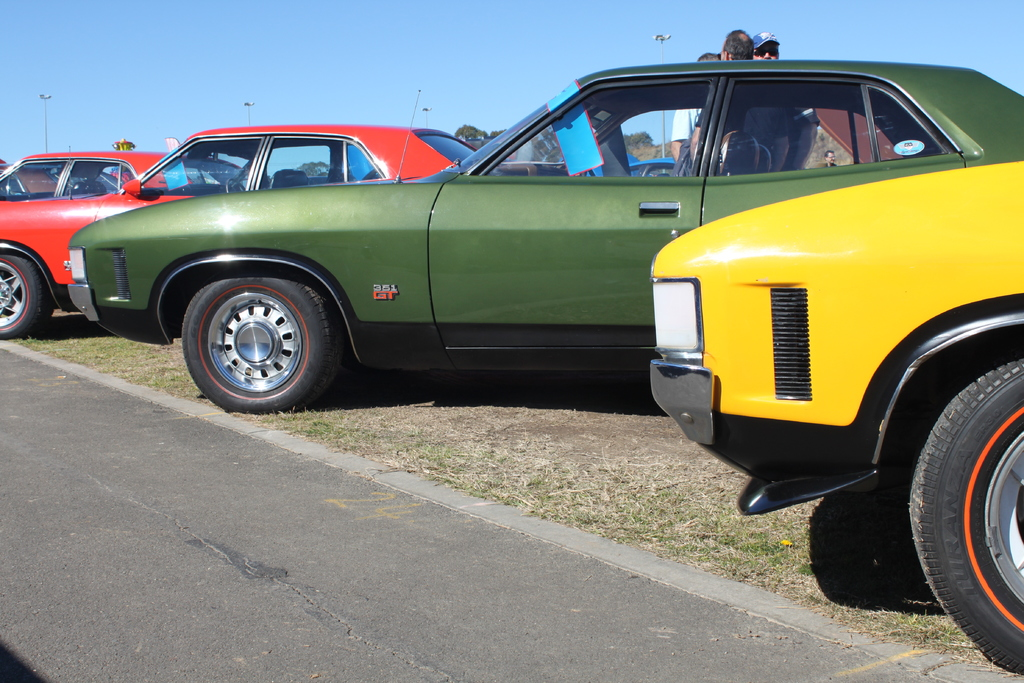Car: (0, 54, 1023, 677)
